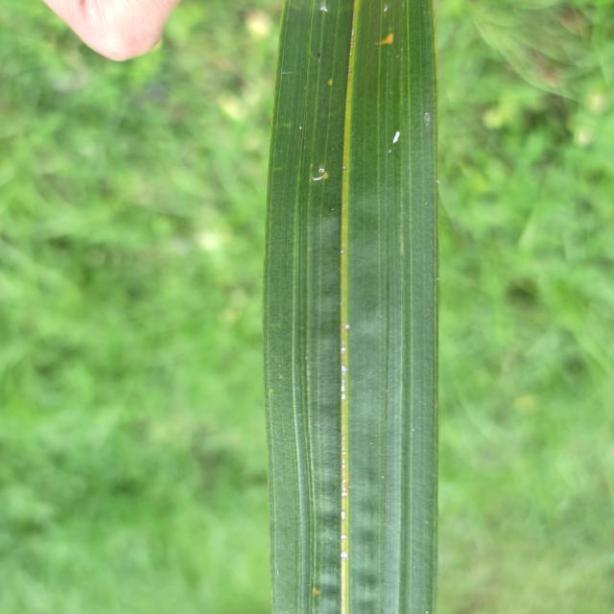Boron: (264, 0, 440, 614)
